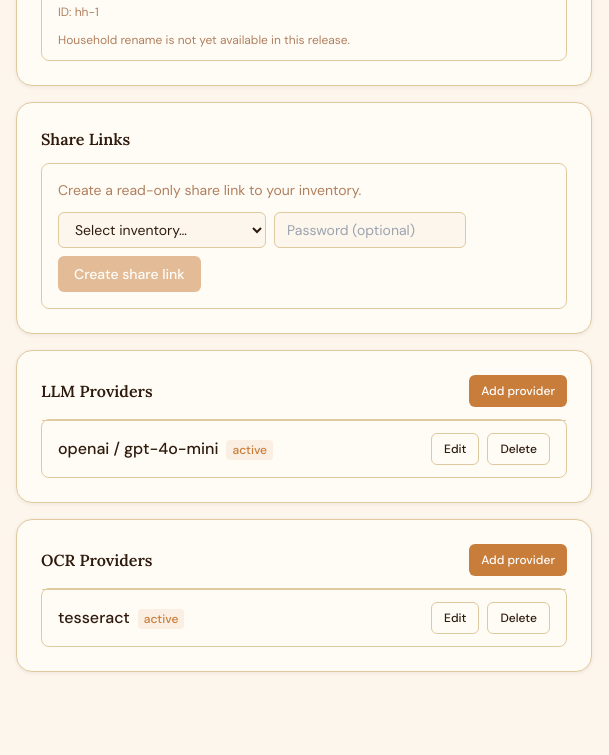
Test: SettingsPage › shows LLM add form when 'Add provider' clicked
(page scrolled)
Expected: the text "openai / gpt-4o-mini" is shown, top-left (58, 437), bottom-right (273, 461)
Click the button "Add provider" in the row of "LLM Providers".
click(518, 391)  # box top-left (469, 375), bottom-right (567, 407)
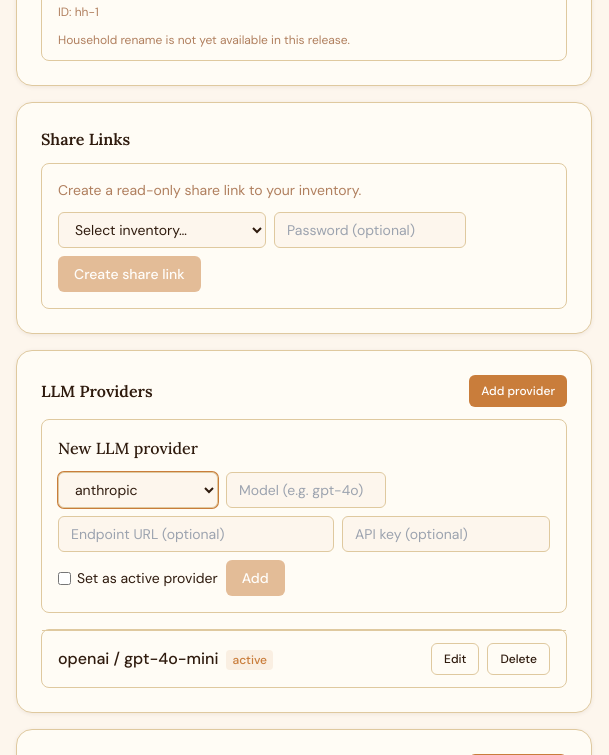
Expected: the dropdown named "Provider" is shown, top-left (58, 472), bottom-right (218, 508)
Expected: the field with placeholder "Model (e.g. gpt-4o)" is shown, top-left (226, 472), bottom-right (386, 508)
